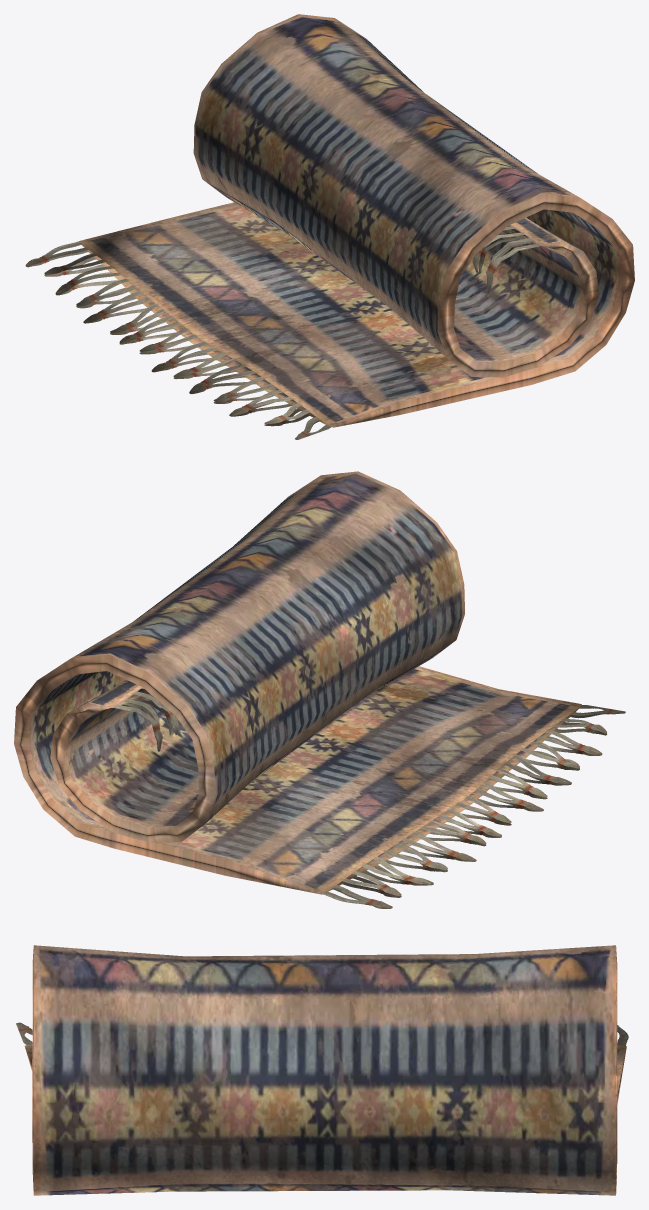
The picture shows the model from 3 angles, top to bottom: view 1: azimuth 30°, elevation 25°; view 2: azimuth 150°, elevation 25°; view 3: azimuth 270°, elevation 25°; orthographic projection. The views are drawn at different scales.
Visible parts, largest first — view 1: SM_Moon_Garou_Decoration_Carpet_01v2_LOD0; view 2: SM_Moon_Garou_Decoration_Carpet_01v2_LOD0; view 3: SM_Moon_Garou_Decoration_Carpet_01v2_LOD0.
Part boxes in pixels (x1,y1,x2,y2): SM_Moon_Garou_Decoration_Carpet_01v2_LOD0: (25,14,634,439); SM_Moon_Garou_Decoration_Carpet_01v2_LOD0: (14,471,625,908); SM_Moon_Garou_Decoration_Carpet_01v2_LOD0: (16,945,628,1195).
Size of the model in its own units: 1.75 by 0.8271 by 2.09.
Materials: 1 (1 with a texture image).
